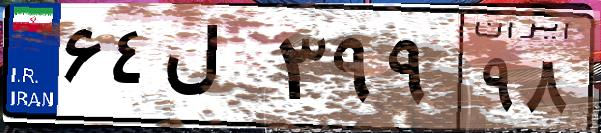3: (270, 28, 330, 110)
4: (110, 28, 158, 98)
6: (57, 26, 110, 100)
8: (525, 38, 570, 115)
9: (385, 28, 445, 110), (330, 28, 385, 110), (475, 38, 525, 113)
ل: (158, 20, 270, 120)
